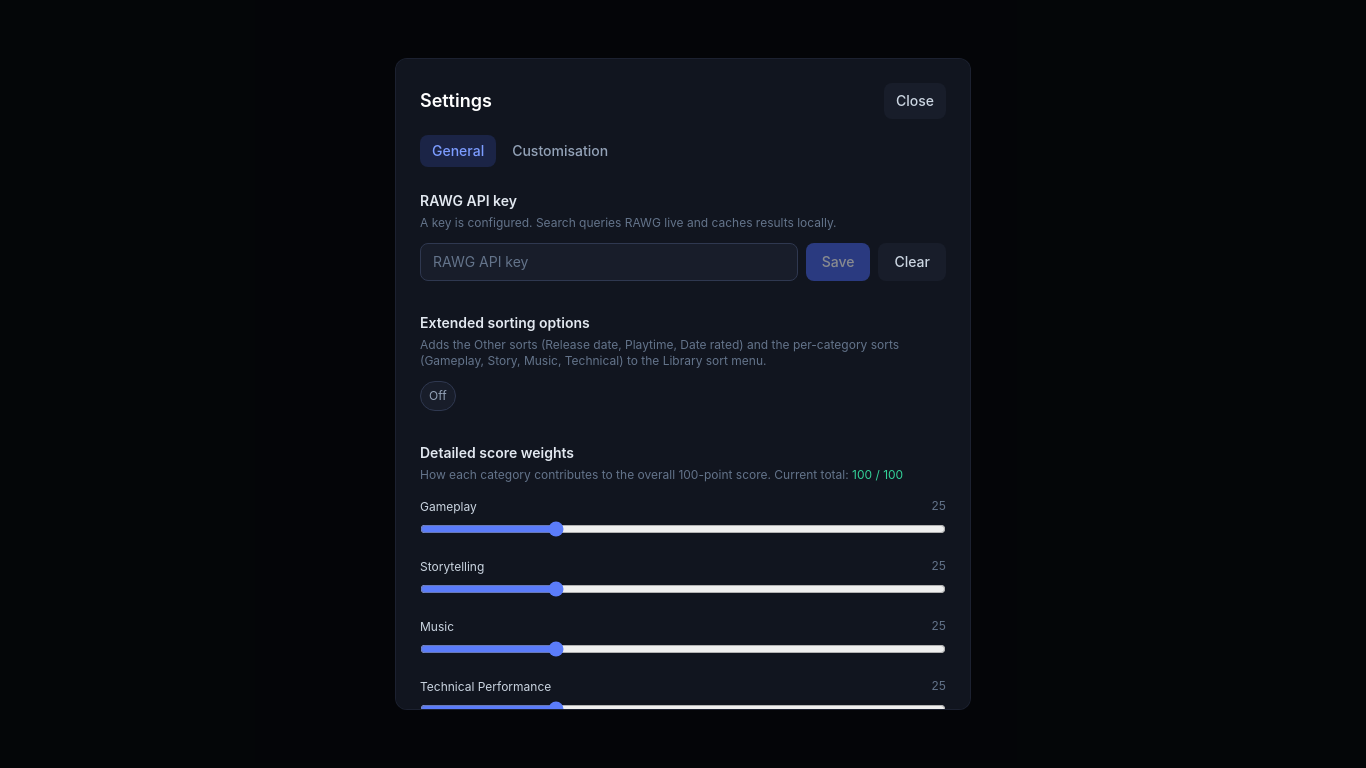
it: General tab — weights › validates that weights total exactly 100 before saving
Expected: the text "Current total:" shows "100 / 100", [420,467,946,483]
Set the 1st slider to "30" at (581, 529), box [420,521,946,537]
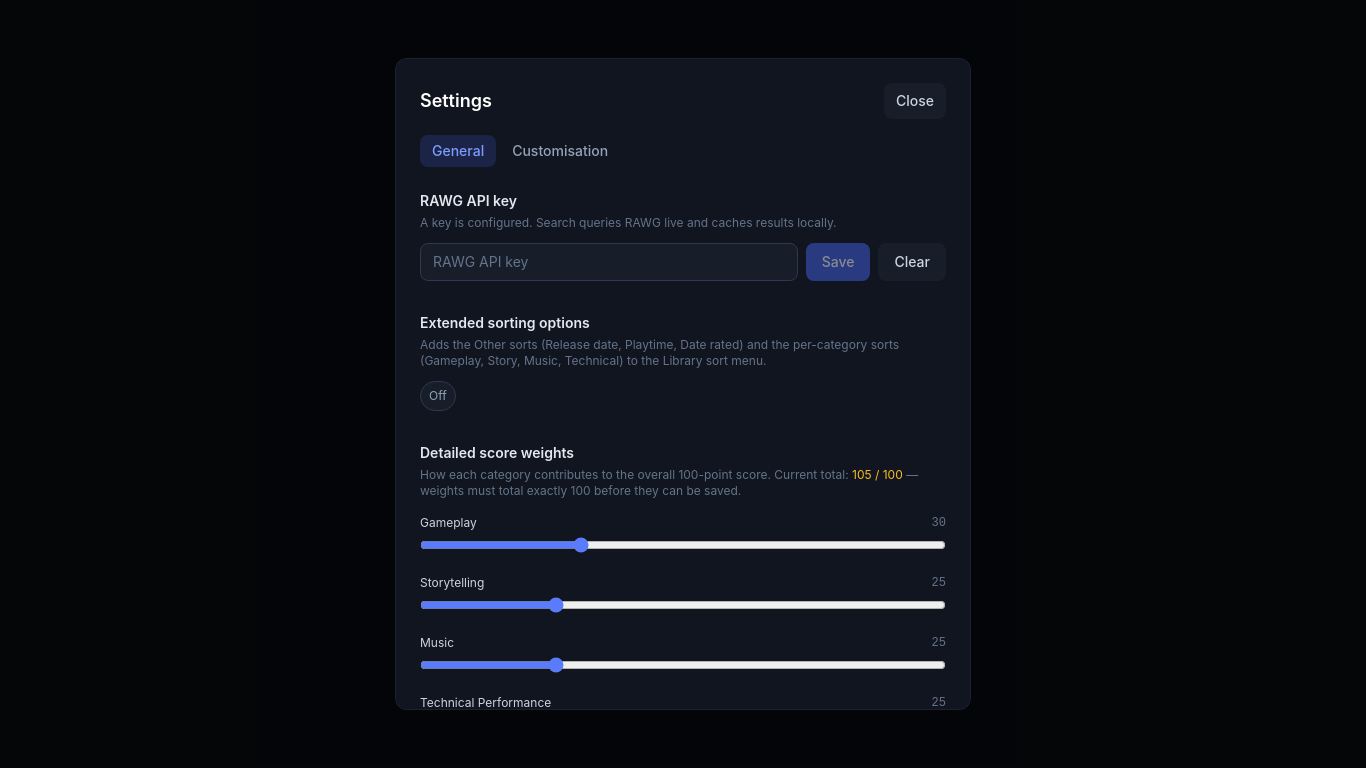
Expected: the text "Current total:" shows "105 / 100", [420,467,946,499]
Expected: the text "must total exactly 100" is shown, [420,467,918,498]
Set the slider below "30" to "25" at (556, 545), box [420,537,946,553]
(page scrolled)
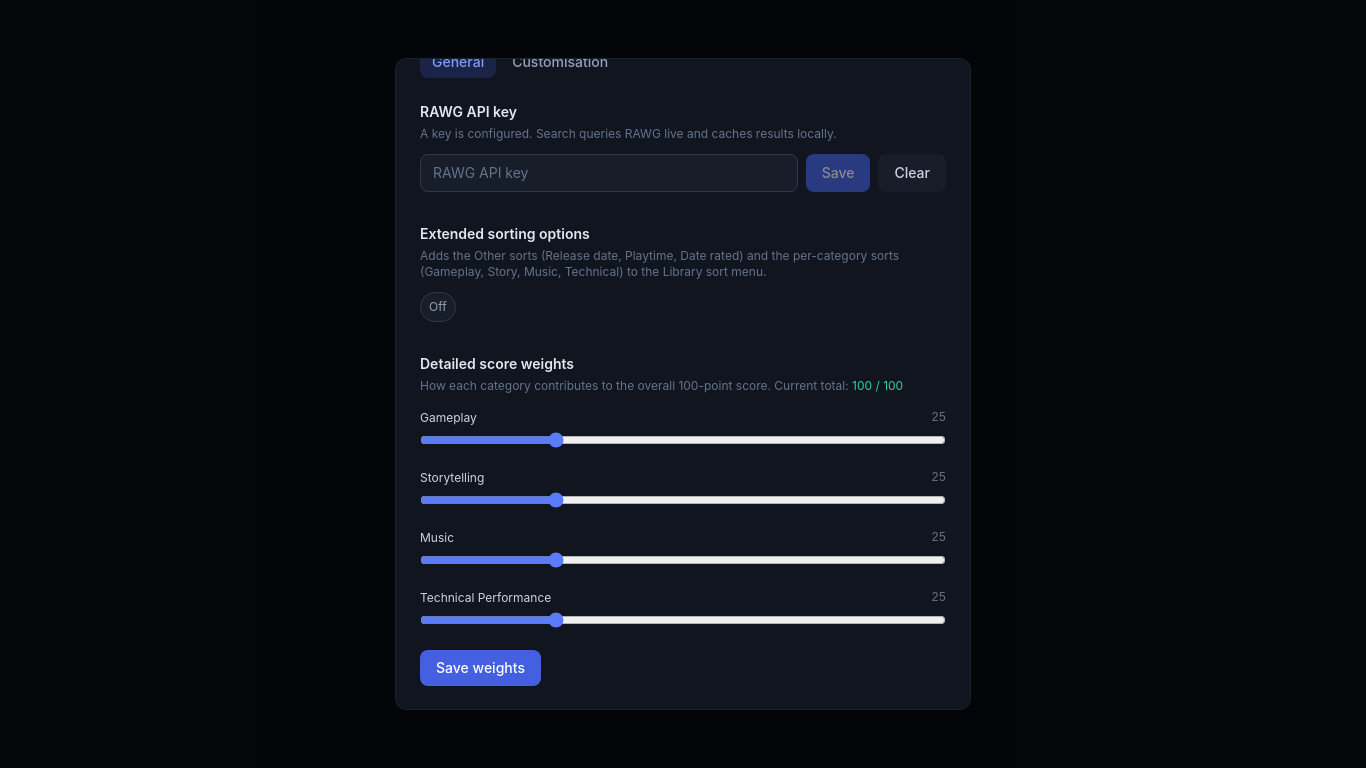
Expected: the text "must total exactly 100" shows "100 / 100", [420,378,946,394]
Expected: the button "Save weights" is enabled, [420,650,541,686]
